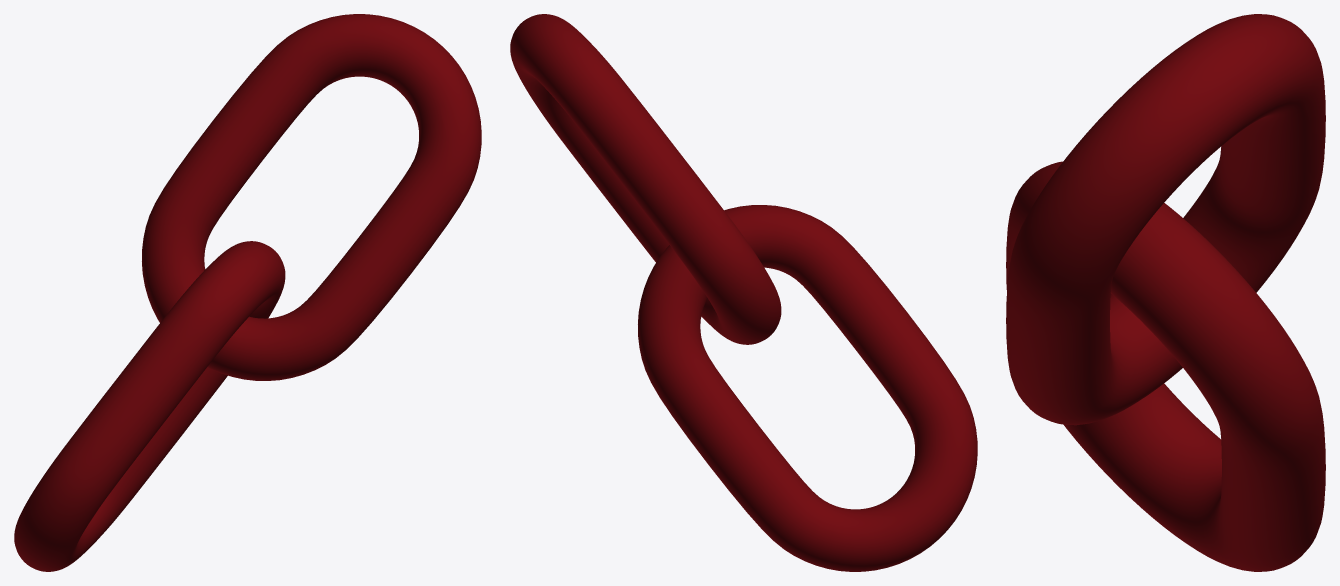
The picture shows the model from 3 angles, left to right: view 1: azimuth 30°, elevation 25°; view 2: azimuth 150°, elevation 25°; view 3: azimuth 270°, elevation 25°; orthographic projection. The views are drawn at different scales.
Visible parts, largest first — view 1: Plane.001; view 2: Plane.001; view 3: Plane.001.
Boxes of the visible parts, box(x1,y1,x2,y2) form: Plane.001: box(14, 14, 481, 571); Plane.001: box(510, 14, 977, 571); Plane.001: box(1006, 14, 1325, 571).
Bounding box in the file's own units: 1.74 × 1.74 × 0.663.
